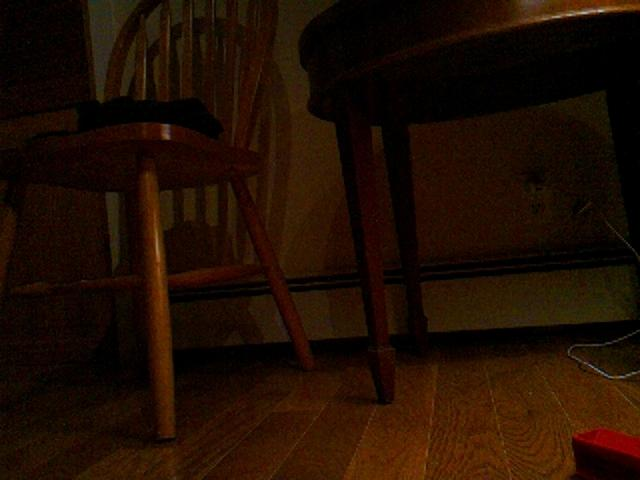red: (570, 425, 640, 480)
